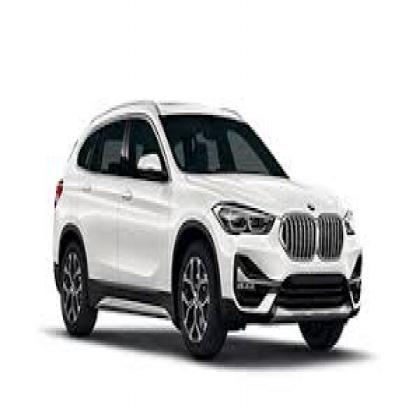Car: (52, 96, 364, 360)
